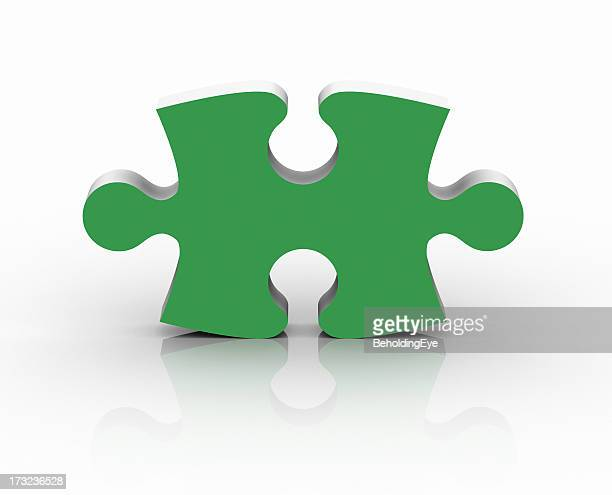puzzle piece: (70, 74, 543, 341)
